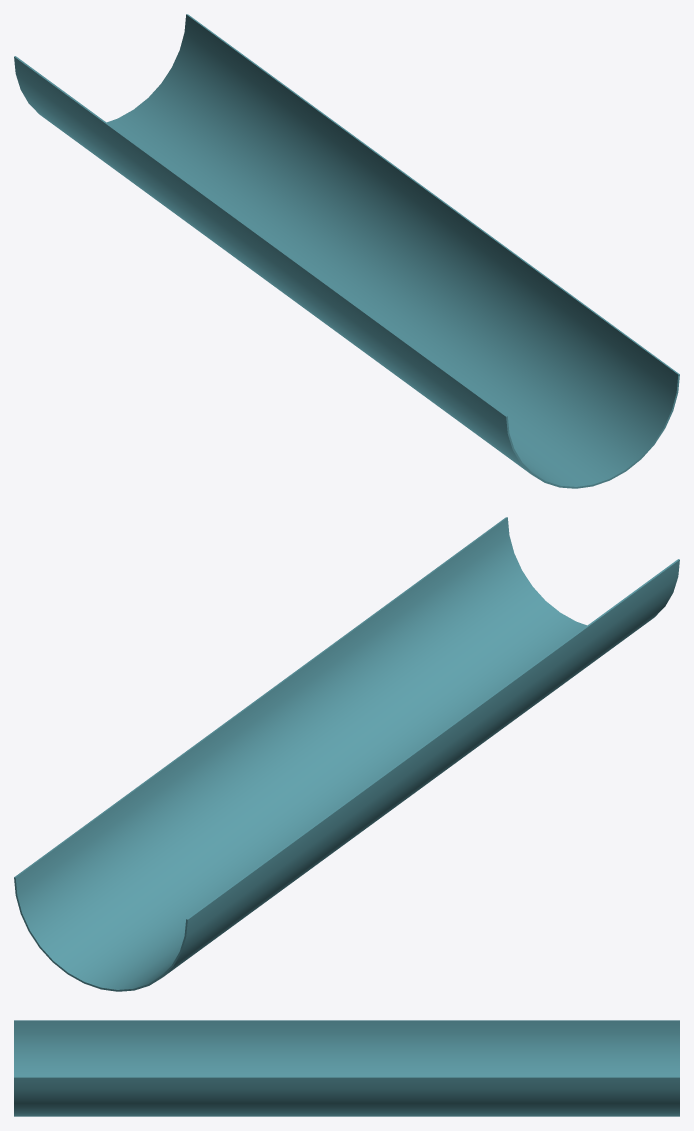
Rendered from Platform.fbx.
3 renders of one model, top to bottom at view 1: azimuth 30°, elevation 25°; view 2: azimuth 150°, elevation 25°; view 3: azimuth 270°, elevation 25°, orthographic. The views are drawn at different scales.
Parts seen in each view (by area): view 1: Cylinder1; view 2: Cylinder1; view 3: Cylinder1.
Boxes of the visible parts, x1=… form: Cylinder1: x1=14, y1=14, x2=679, y2=488; Cylinder1: x1=14, y1=517, x2=679, y2=991; Cylinder1: x1=14, y1=1020, x2=679, y2=1116.
Size of the model in its own units: 101990 by 51005 by 500000.
